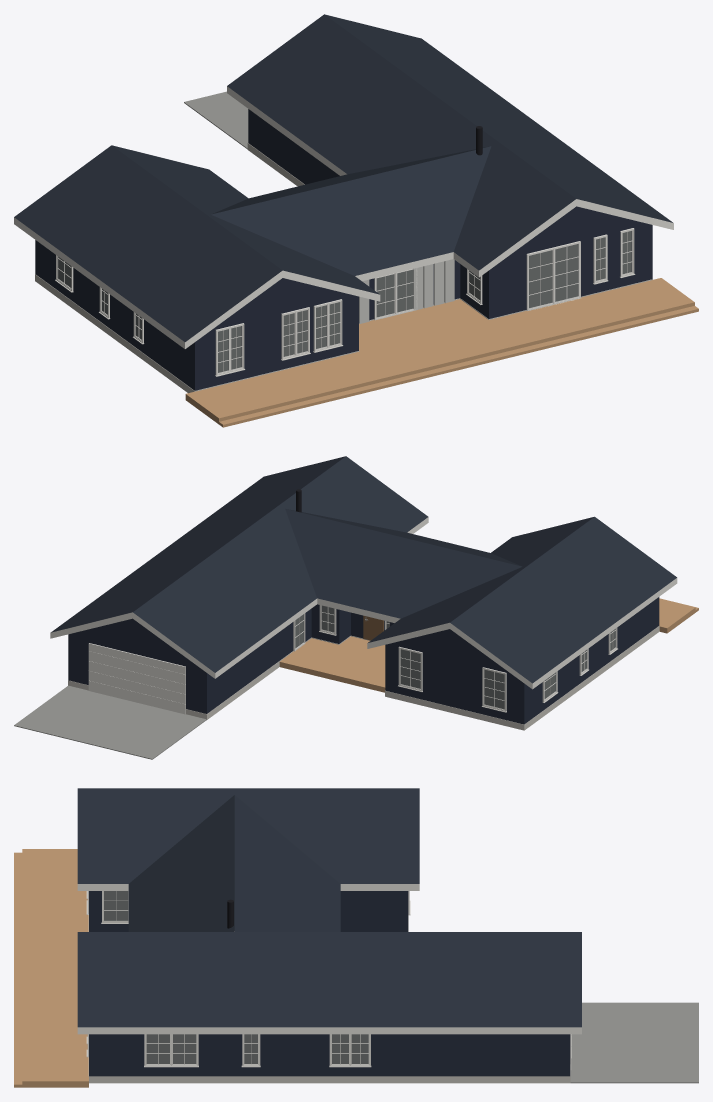
File: teder270_c0_p1_m1.glb
3 renders of one model, top to bottom at view 1: azimuth 30°, elevation 25°; view 2: azimuth 150°, elevation 25°; view 3: azimuth 270°, elevation 25°, orthographic. The views are drawn at different scales.
Parts seen in each view (by area): view 1: roof, deck, wall, glass, curtain, fascia, frame, plinth, panel, paving; view 2: roof, wall, fascia, paving, deck, plinth, frame, glass, curtain; view 3: roof, wall, deck, paving, fascia, plinth, glass, curtain, frame.
Part boxes in pixels (x1,y1,x2,y2): roof: (14,14,672,341); deck: (185,278,698,427); wall: (35,109,652,390); glass: (57,231,631,372); curtain: (58,231,631,372); fascia: (14,86,673,348); frame: (55,228,635,376); plinth: (35,143,652,393); panel: (359,259,454,323); paving: (184,91,248,149); roof: (51,456,676,683); wall: (68,597,659,724); fascia: (50,517,677,714); paving: (14,685,206,759); deck: (279,598,698,692); plinth: (68,626,659,730); frame: (88,605,617,712); glass: (295,605,615,709); curtain: (295,605,615,708); roof: (77,788,581,1027); wall: (89,891,570,1076); deck: (14,849,88,1087); paving: (570,1002,698,1083); fascia: (77,884,581,1070); plinth: (88,915,570,1083); glass: (104,891,368,1063); curtain: (104,891,368,1063); frame: (86,891,571,1067).
Size of the model in its own units: 21.93 by 5.66 by 26.62.
Materials: 14 (5 with a texture image).
